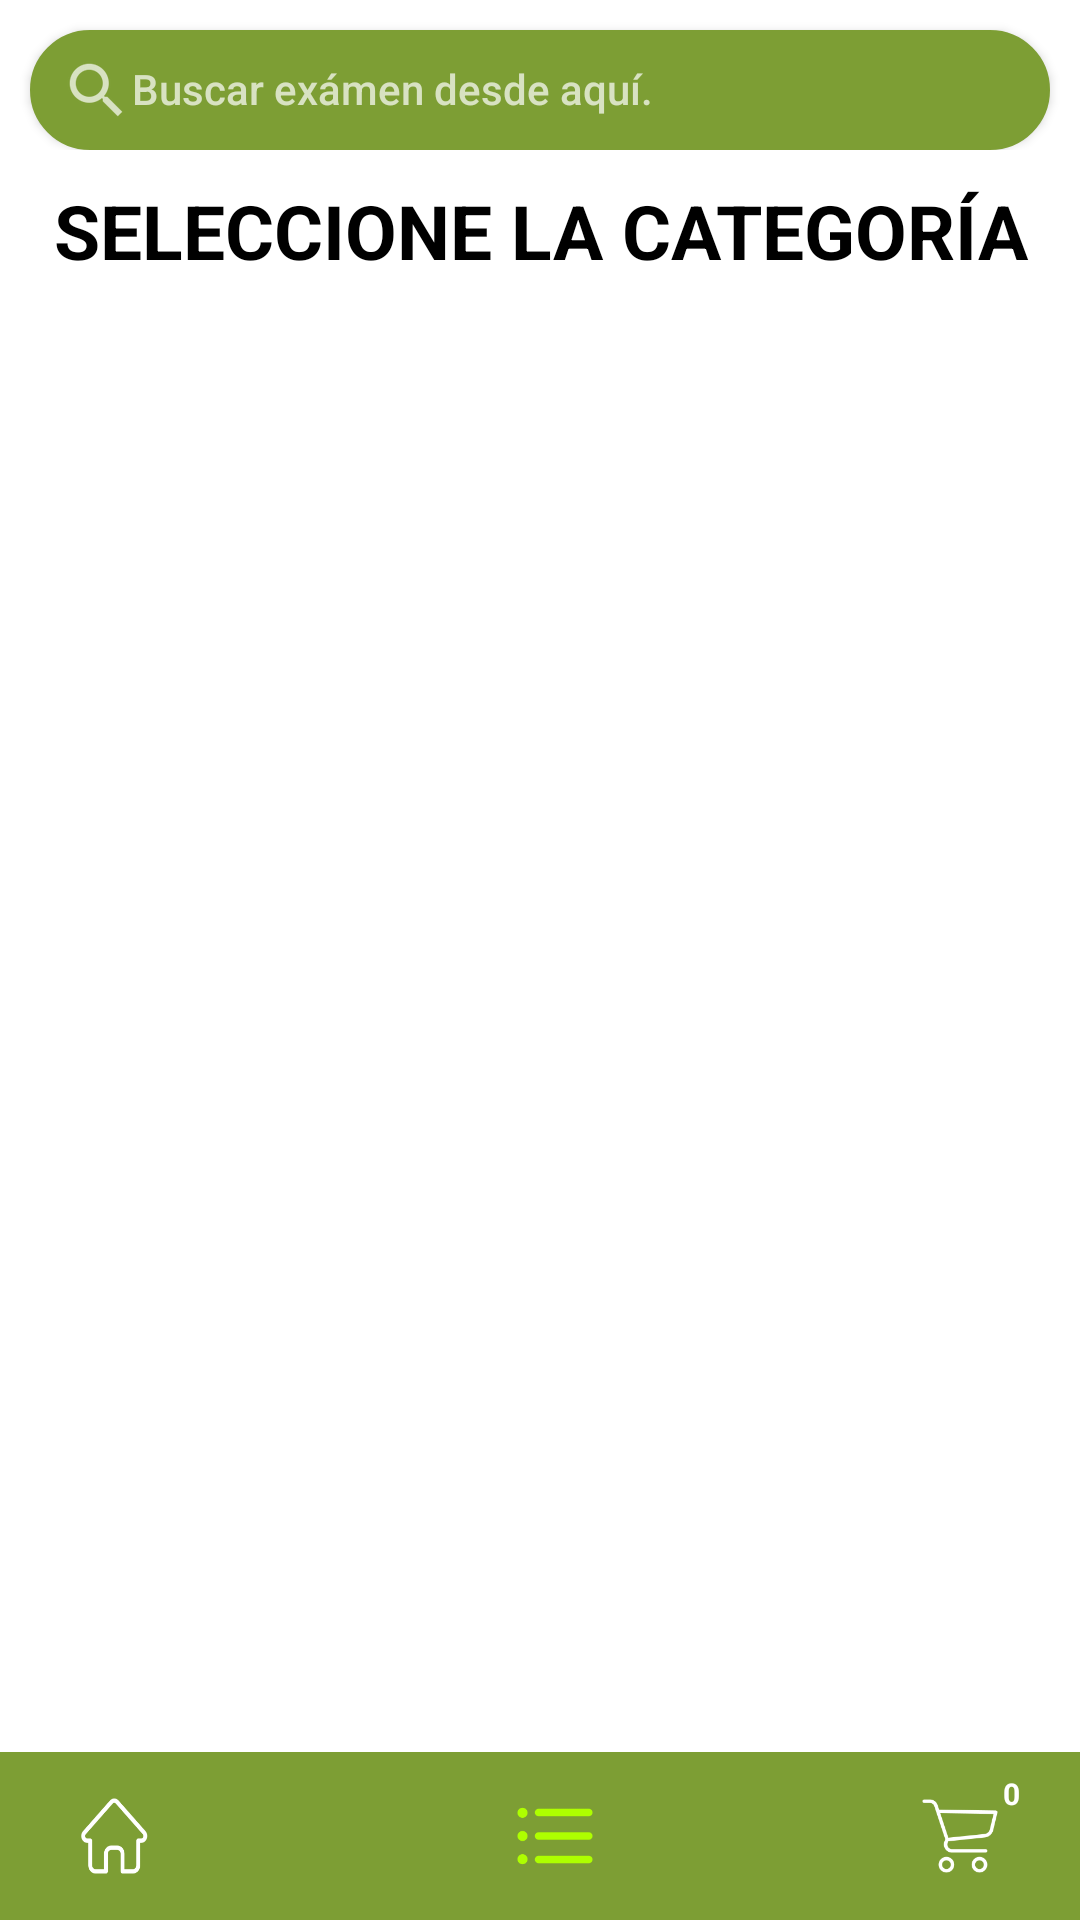

Icons on this 1080px x 1920px Android screen, each with its box as (left=x1, top=y1, right=x2, bottom=y2):
comprasdef: (left=922, top=1783, right=1019, bottom=1873)
home: (left=81, top=1798, right=148, bottom=1874)
list: (left=517, top=1808, right=593, bottom=1864)
